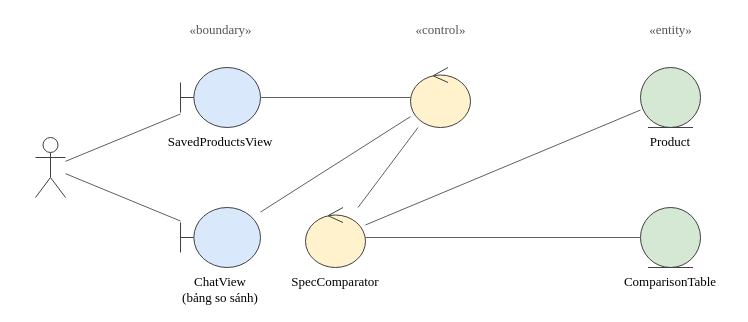
Image size: 748x322. Some labels were removed from this diagram. The shapes that lost their labels are listed below. From the top down, each one's centre as x and y in pixels, then its label:
the point at 440,97: ComparisonAgent
the point at 50,167: Người dùng
